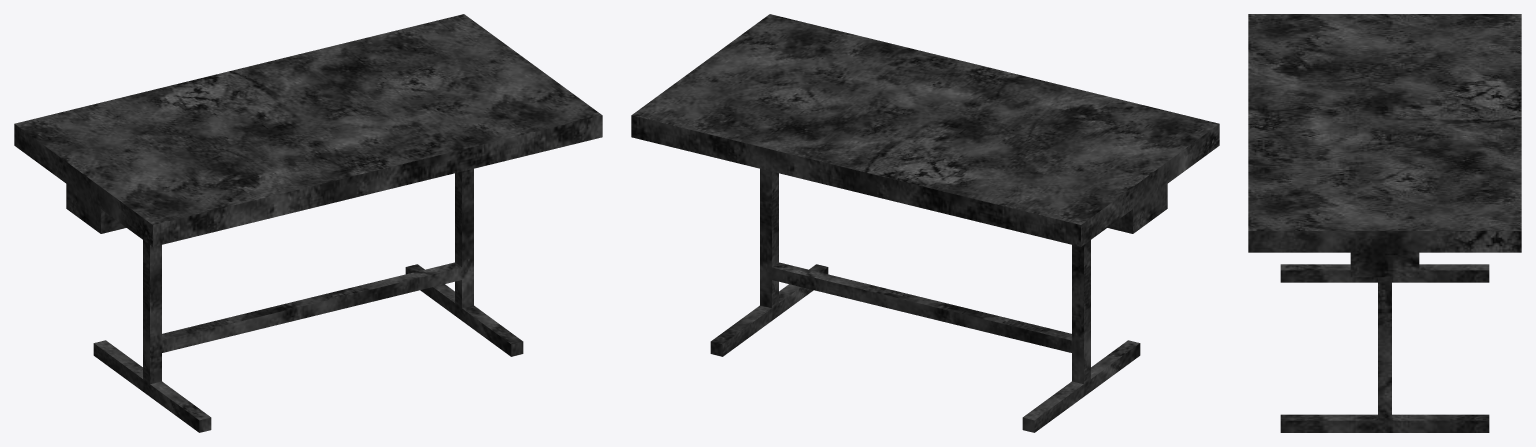
The model's file is mk_table.dae.
3 renders of one model, left to right at view 1: azimuth 30°, elevation 25°; view 2: azimuth 150°, elevation 25°; view 3: azimuth 270°, elevation 25°, orthographic.
Visible parts, largest first — view 1: skp7166; view 2: skp7166; view 3: skp7166.
Boxes of the visible parts, x1=… form: skp7166: x1=14, y1=14, x2=602, y2=432; skp7166: x1=631, y1=14, x2=1219, y2=432; skp7166: x1=1248, y1=14, x2=1521, y2=432.
Bounding box in the file's own units: 59.06 × 31.5 × 29.53.
1 material, 1 textured.
